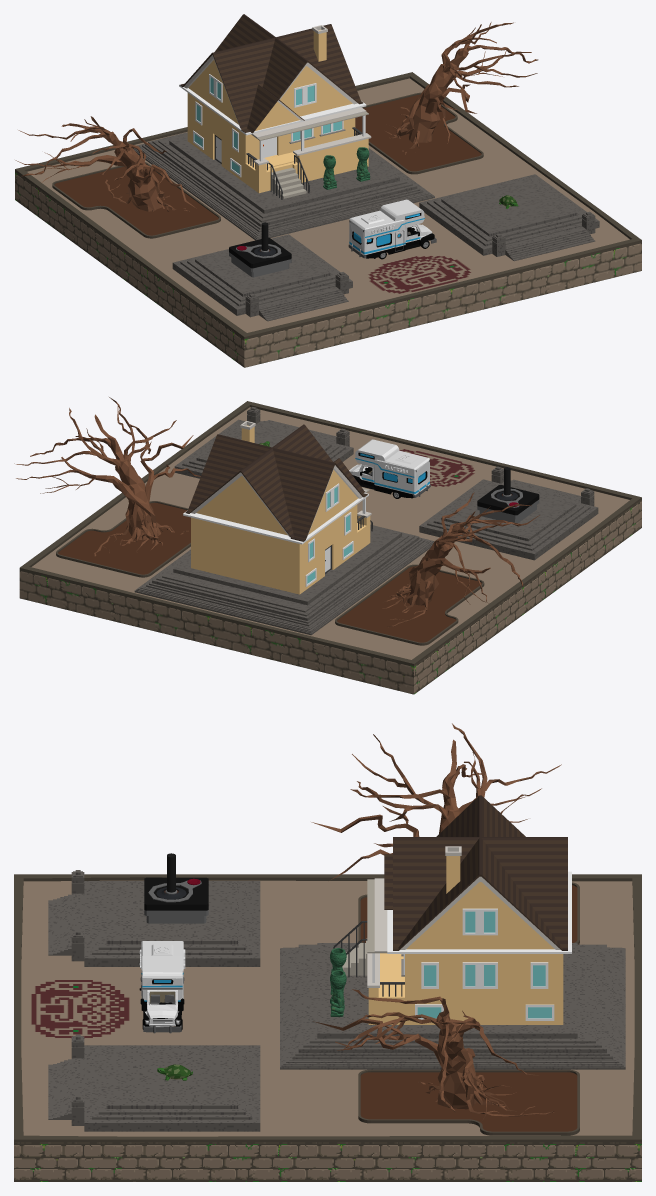
The picture shows the model from 3 angles, top to bottom: view 1: azimuth 30°, elevation 25°; view 2: azimuth 150°, elevation 25°; view 3: azimuth 270°, elevation 25°; orthographic projection. The views are drawn at different scales.
Parts seen in each view (by area): view 1: Cube.011, Cube.235, VEHICLES_CAMPER, OBJRANDOM_JOYSTICK; view 2: Cube.011, Cube.235, VEHICLES_CAMPER, OBJRANDOM_JOYSTICK; view 3: Cube.011, Cube.235, VEHICLES_CAMPER, OBJRANDOM_JOYSTICK.
Boxes of the visible parts, box(x1,y1,x2,y2) form: Cube.011: box(15, 22, 641, 367); Cube.235: box(179, 14, 371, 199); VEHICLES_CAMPER: box(348, 199, 436, 259); OBJRANDOM_JOYSTICK: box(229, 222, 291, 277); Cube.011: box(14, 397, 641, 694); Cube.235: box(183, 421, 372, 594); VEHICLES_CAMPER: box(349, 439, 430, 498); OBJRANDOM_JOYSTICK: box(477, 467, 539, 523); Cube.011: box(14, 723, 641, 1181); Cube.235: box(333, 795, 571, 1024); VEHICLES_CAMPER: box(139, 941, 185, 1033); OBJRANDOM_JOYSTICK: box(144, 853, 208, 923).
Bounding box in the file's own units: 5099 × 1676 × 4000.
Materials: 42 (5 with a texture image).
